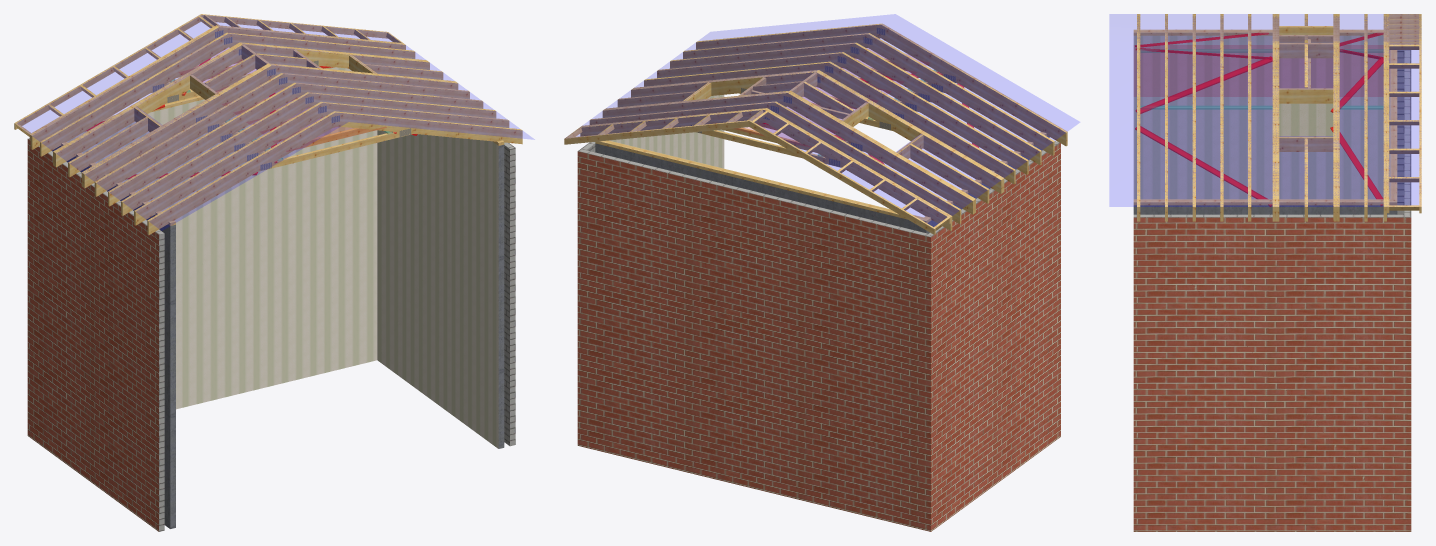
3 views of the same model, side by side, from view 1: azimuth 30°, elevation 25°; view 2: azimuth 150°, elevation 25°; view 3: azimuth 270°, elevation 25° (orthographic). The views are drawn at different scales.
Parts seen in each view (by area): view 1: Object_7, Object_11, Object_10, Object_8, Object_6, Object_9, Object_12, Object_2; view 2: Object_8, Object_11, Object_10, Object_6, Object_7, Object_3, Object_9, Object_12; view 3: Object_8, Object_10, Object_7, Object_11, Object_2, Object_3, Object_4, Object_9, Object_6, Object_5.
Boxes of the visible parts, x1,y1,x2,y2 form: Object_7: (67,67,498,448); Object_11: (14,14,522,235); Object_10: (17,15,534,230); Object_8: (27,139,158,531); Object_6: (52,144,504,528); Object_9: (28,138,515,531); Object_12: (143,30,411,170); Object_2: (179,49,386,151); Object_8: (577,143,1060,531); Object_11: (564,23,1067,234); Object_10: (566,14,1079,226); Object_6: (595,135,1049,233); Object_7: (609,95,724,168); Object_3: (595,132,1046,223); Object_9: (578,141,1059,237); Object_12: (690,27,955,166); Object_8: (1133,217,1411,531); Object_10: (1110,14,1420,206); Object_7: (1133,35,1390,199); Object_11: (1137,14,1421,221); Object_2: (1134,45,1382,96); Object_3: (1133,29,1397,205); Object_4: (1135,32,1383,206); Object_9: (1133,50,1411,217); Object_6: (1133,205,1397,214); Object_5: (1140,49,1383,109).
Bounding box in the file's own units: 6580 × 6306 × 4500.
11 materials, 7 textured.
